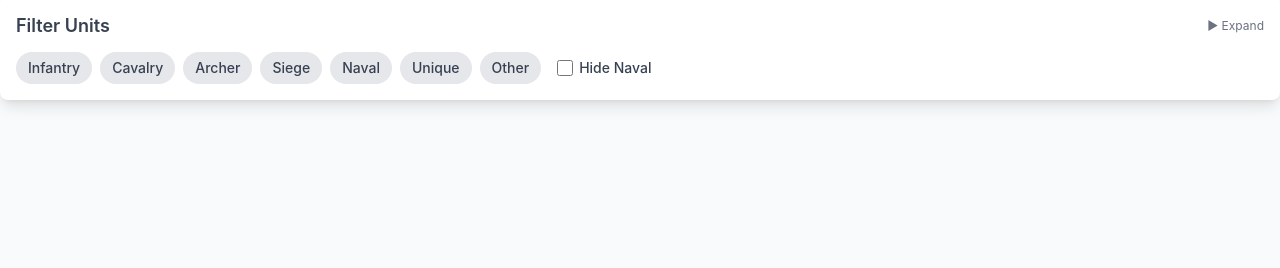
Test: UnitFilter › Collapsible behavior › should show collapsed summary with active filters
This screenshot has width=1280, height=268.
Click the button "► Expand": x=1236, y=26 [1207,18,1264,34]
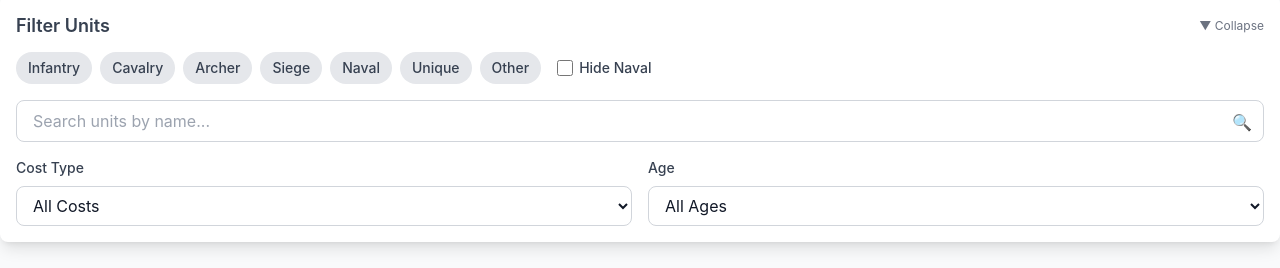
In the field with placeholder "Search units by name...": x=640, y=121 [16,100,1264,142], type "knight"
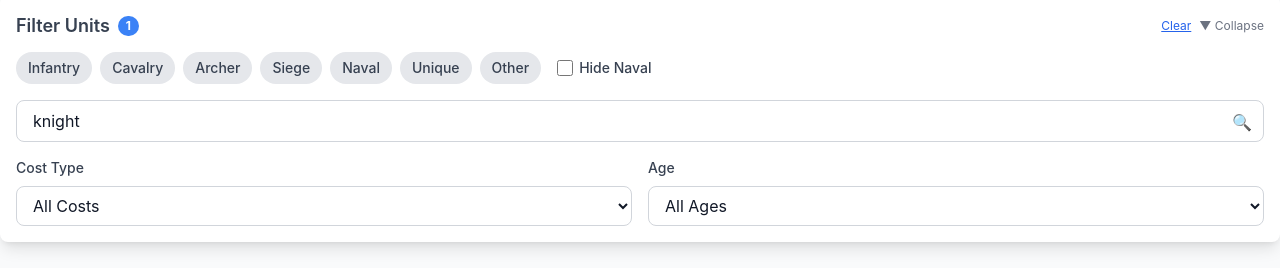
Click the button "▼ Collapse": x=1232, y=26 [1199,18,1264,34]
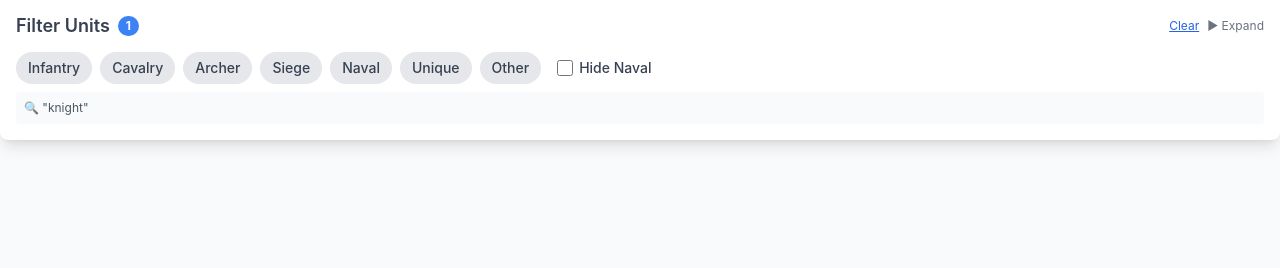
Expected: the text "🔍 \"knight\"" is shown, [24,100,88,115]
